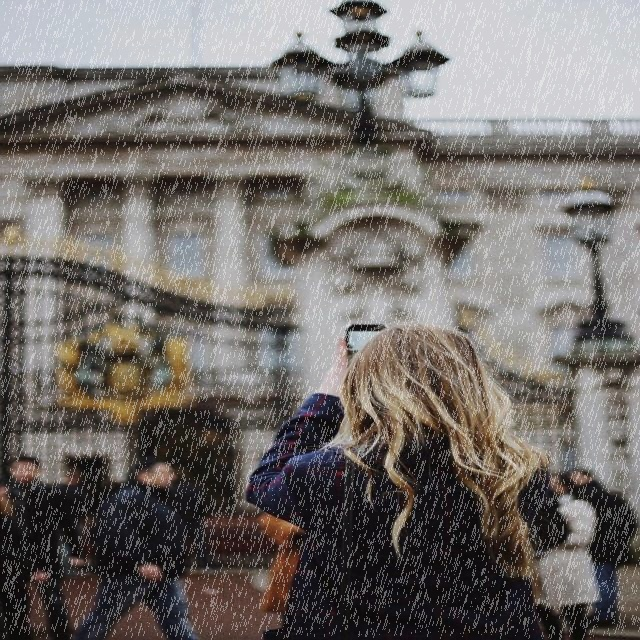pessoa: (242, 320, 554, 640), (68, 453, 204, 640), (252, 458, 376, 640), (0, 453, 80, 640), (526, 472, 606, 640), (568, 468, 639, 629), (165, 450, 223, 572), (46, 446, 110, 554)
